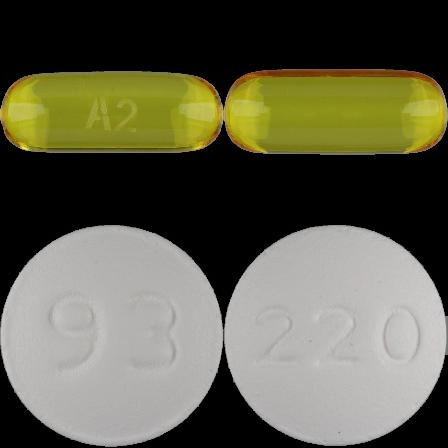42291-165: (0, 0, 224, 224)
